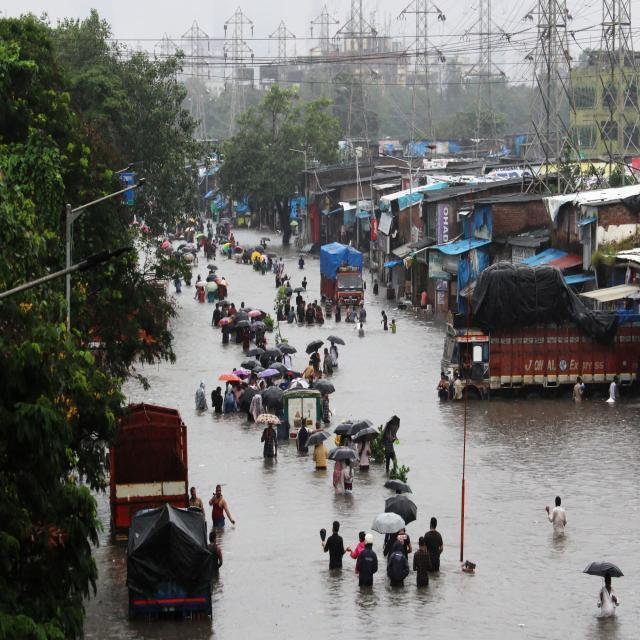flood: (86, 276, 640, 640), (217, 258, 277, 312), (285, 251, 320, 300), (194, 258, 207, 272)
house: (468, 192, 552, 253), (560, 186, 640, 250), (471, 195, 546, 247), (308, 166, 376, 215), (574, 280, 640, 326), (422, 186, 463, 252), (380, 188, 422, 251)
